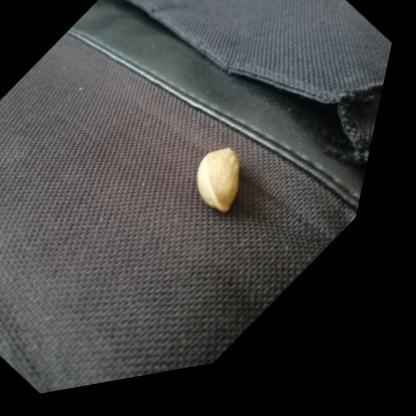pistachio: (196, 143, 245, 214)
